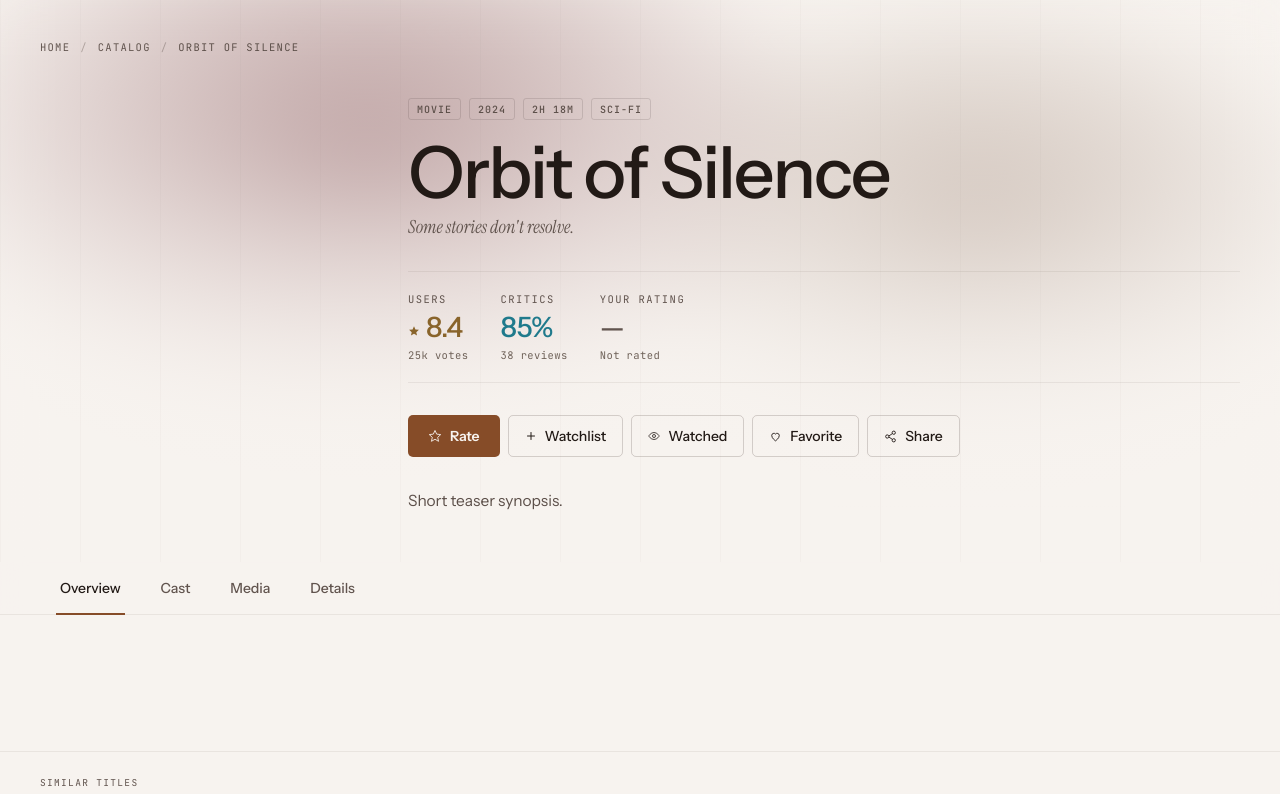
Test: Movie — Details › показывает дату премьеры, страну, возрастной рейтинг и бюджет через formatCurrency
Click the button "Details" at [332, 588], box [290,562,375,614]
(page scrolled)
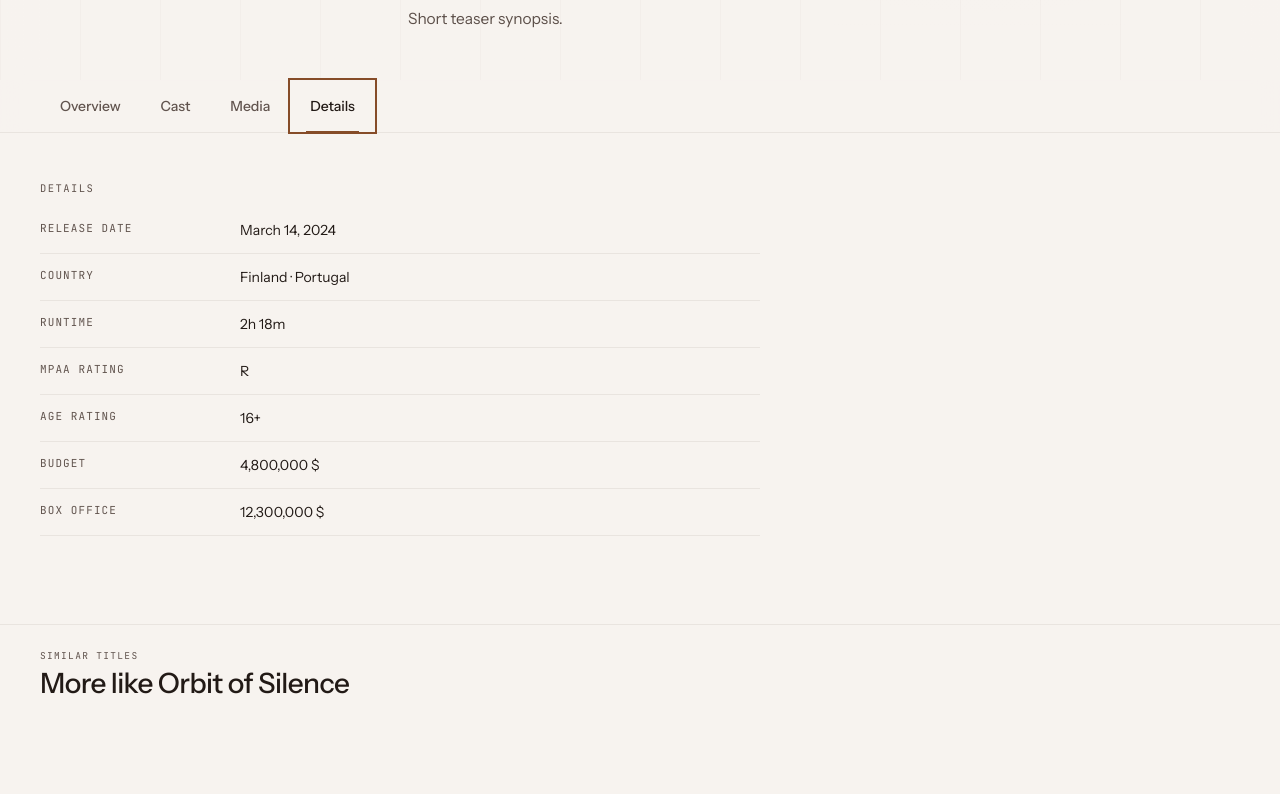
expect the text "March 14, 2024" is shown: met, box [240,221,336,239]
expect the text "16+" is shown: met, box [240,409,261,427]
expect the text "4,800,000 $" is shown: met, box [240,456,319,474]
